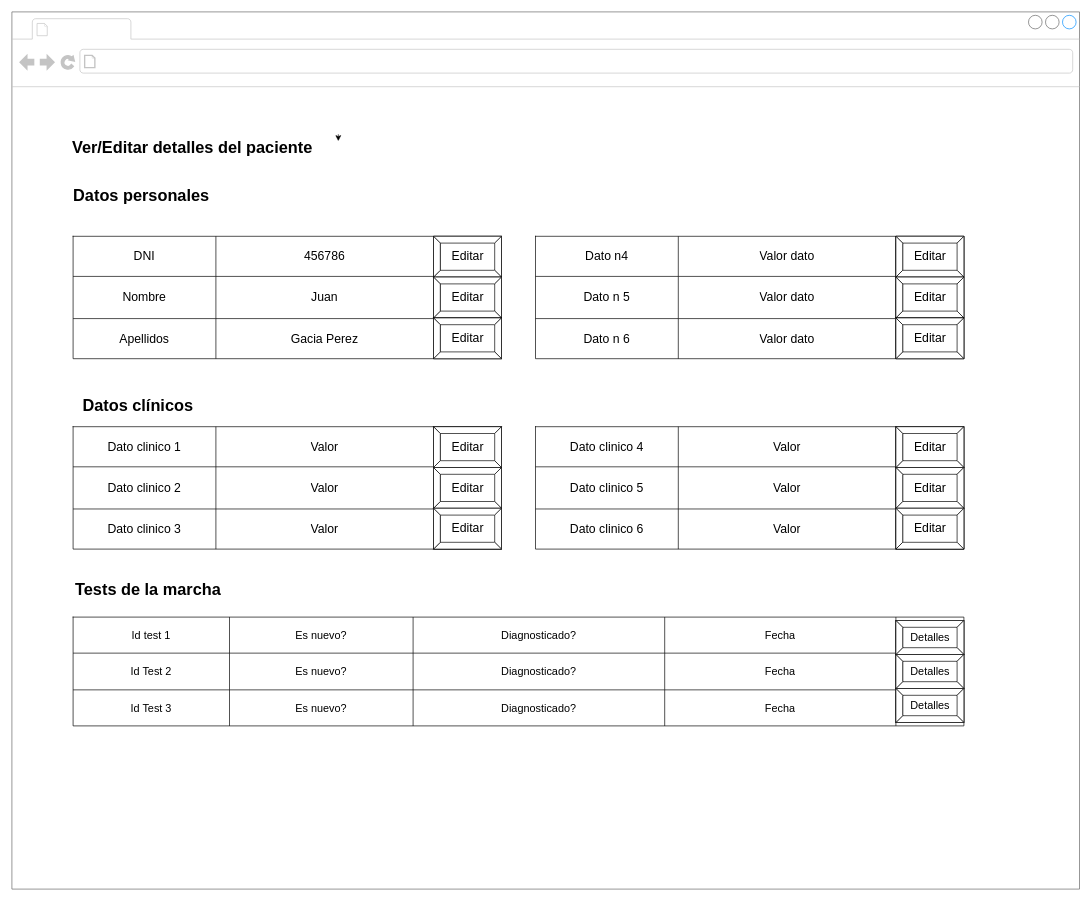
The diagram is 1091 pixels wide and 901 high, and some of its shapes have lost their labels. Here are the shapes that lost their labels. From the top down, the box of each, then its label:
(52, 19, 128, 38): Page 1
(100, 52, 270, 70): https://www.draw.io
